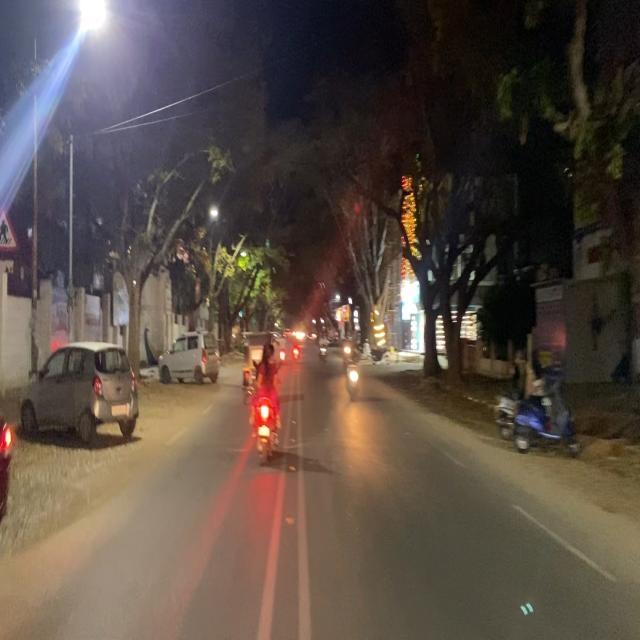bien_cam: (0, 201, 21, 255)
